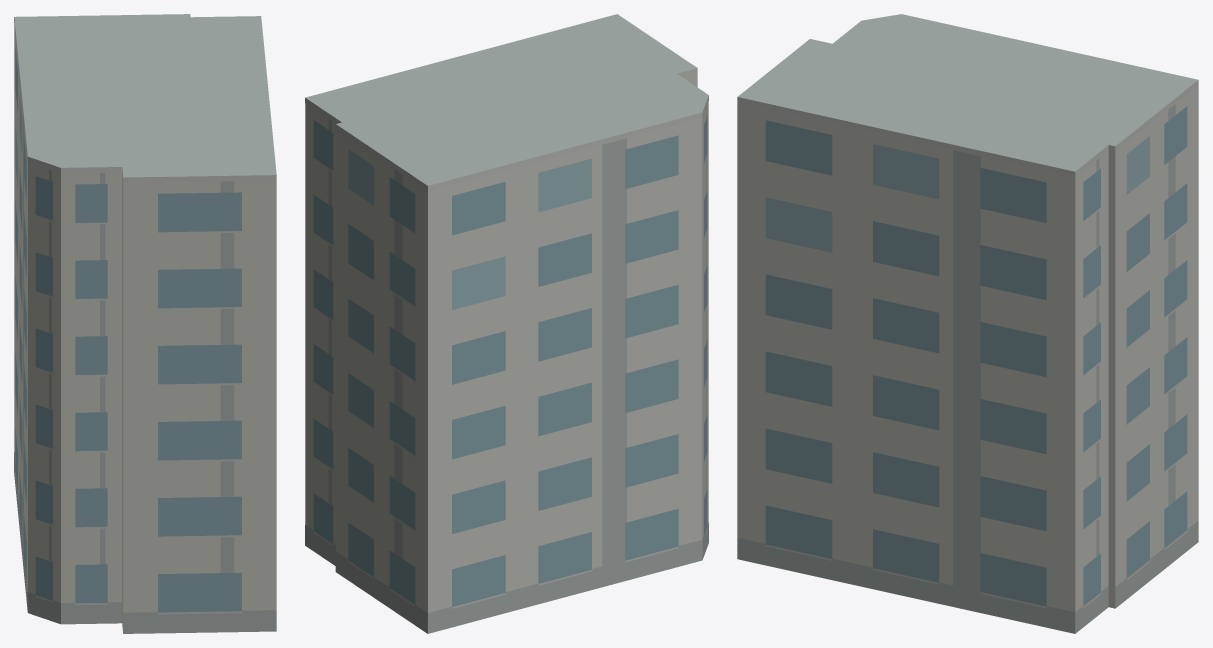
File: survey-upis-33028739.glb
3 renders of one model, left to right at view 1: azimuth 30°, elevation 25°; view 2: azimuth 150°, elevation 25°; view 3: azimuth 270°, elevation 25°, orthographic. The views are drawn at different scales.
Visible parts, largest first — view 1: survey-upis-33028739.tmp; view 2: survey-upis-33028739.tmp; view 3: survey-upis-33028739.tmp.
Boxes of the visible parts, x1,y1,x2,y2 form: survey-upis-33028739.tmp: [14, 14, 276, 633]; survey-upis-33028739.tmp: [305, 14, 708, 633]; survey-upis-33028739.tmp: [737, 14, 1198, 633].
Bounding box in the file's own units: 14.42 × 19.7 × 17.83.
